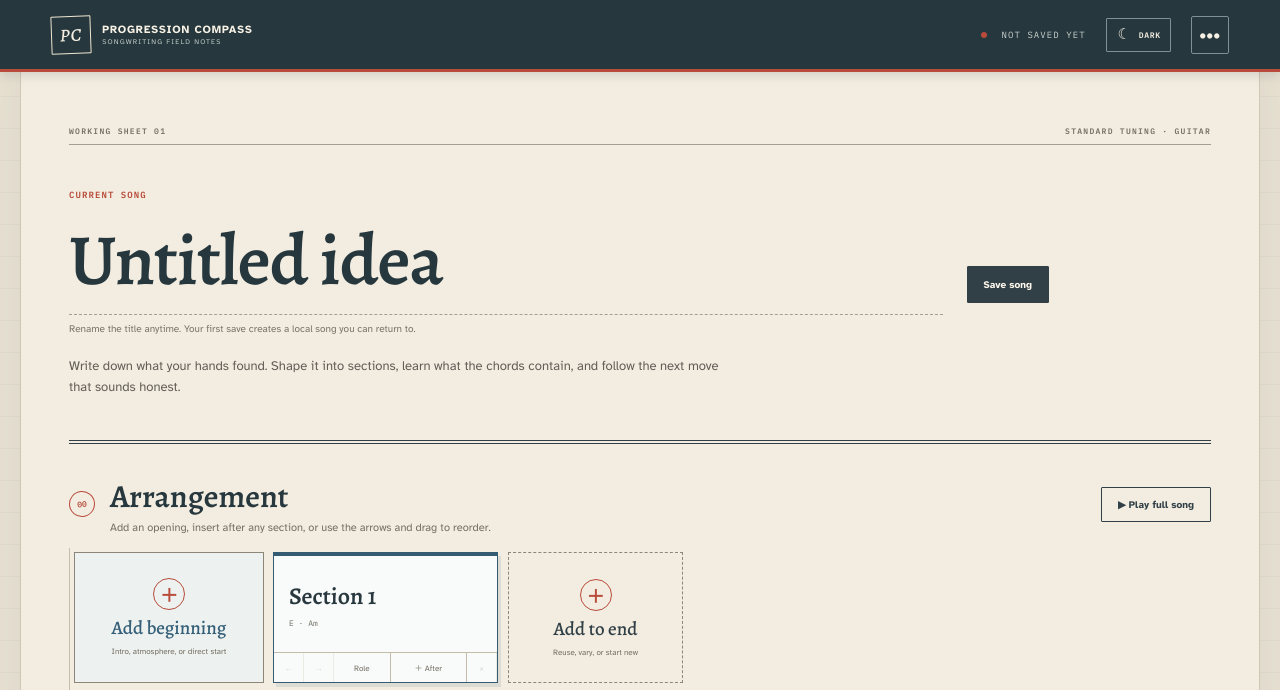
Test: song-aware tonal context › shows a relative-major chorus inside an A-minor song without hiding the song reading
Click the heading named "Open save and share menu": (1210, 34) x1=1191 y1=16 x2=1229 y2=54
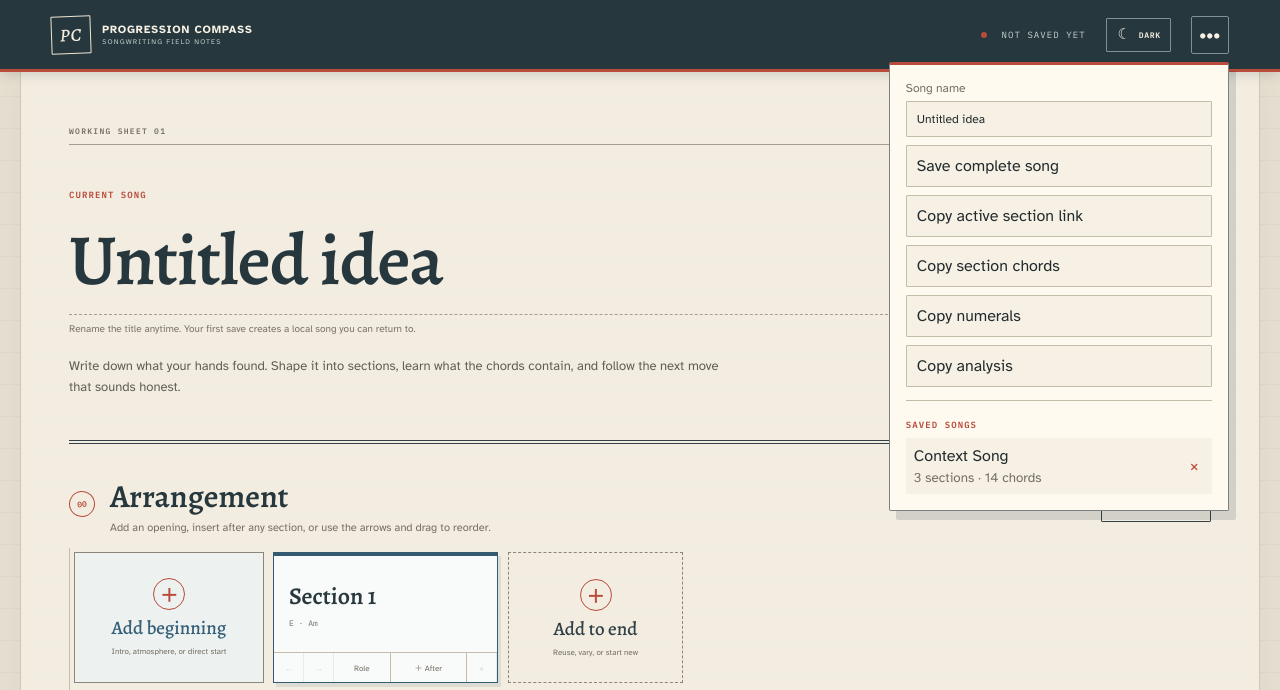
Click the button "Context Song 3 sections · 14 chords": (1041, 466) x1=906 y1=438 x2=1177 y2=494
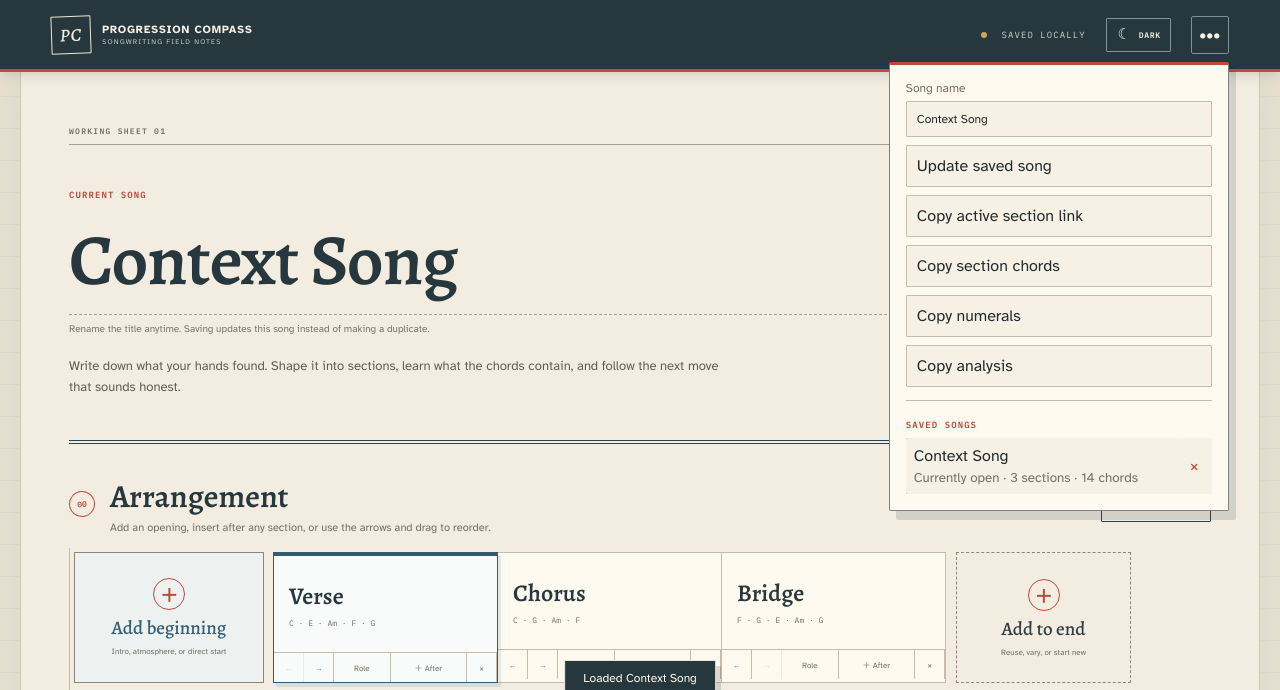
Click the button "Chorus C · G · Am · F": (610, 601) x1=498 y1=553 x2=721 y2=649
(page scrolled)
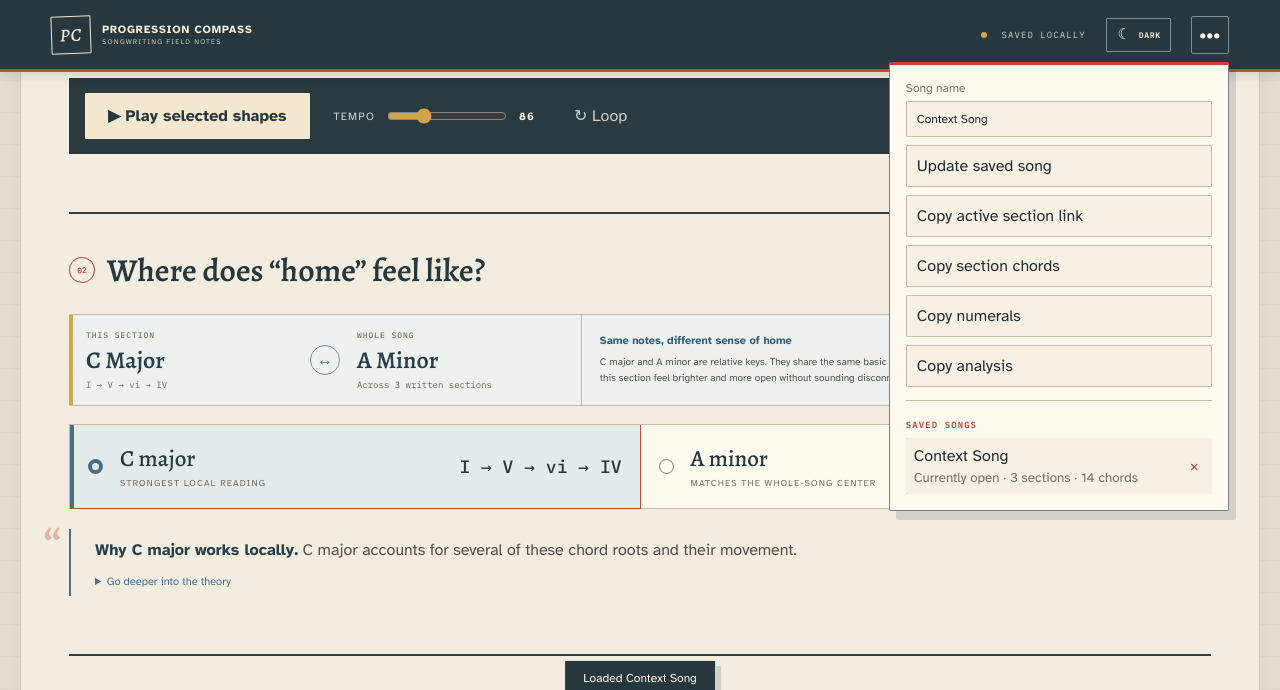
Now the text "Same notes, different sense of home" is shown, box x1=600 y1=334 x2=792 y2=347
Now the text "Strongest local reading" is shown, box x1=120 y1=477 x2=266 y2=489
Now the text "C major" in the row of "Same notes, different sense of home" is shown, box x1=86 y1=344 x2=165 y2=376
